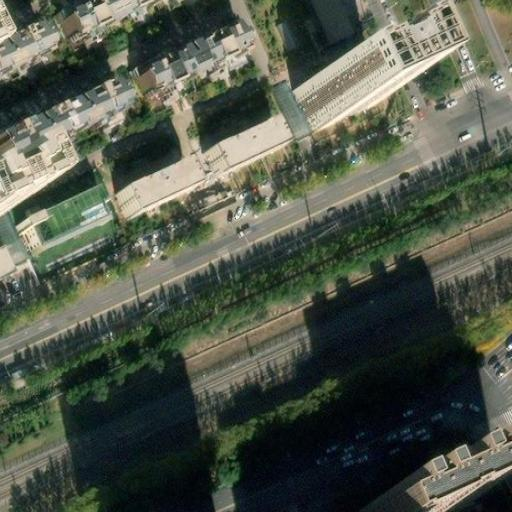building: (124, 22, 233, 96), (292, 53, 381, 131), (362, 457, 479, 512), (15, 188, 102, 253), (200, 120, 274, 175), (116, 162, 188, 216), (54, 0, 146, 40), (311, 0, 362, 43)
